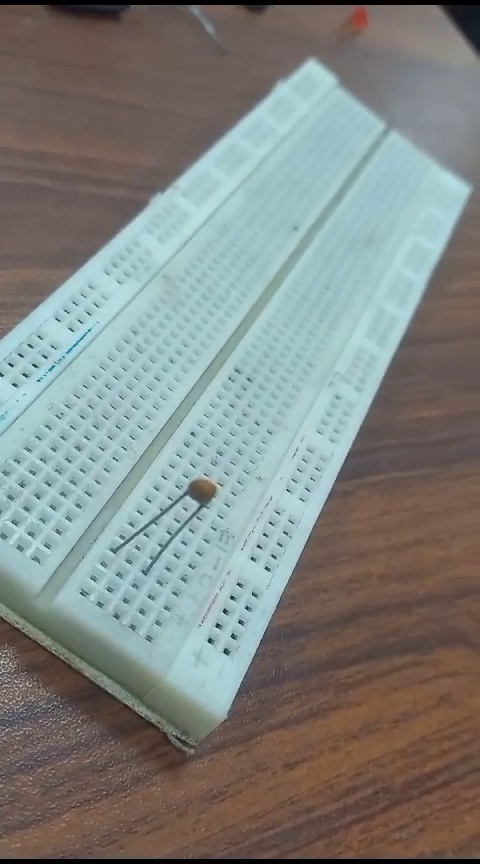ceramic capacitor: (106, 444, 219, 563)
